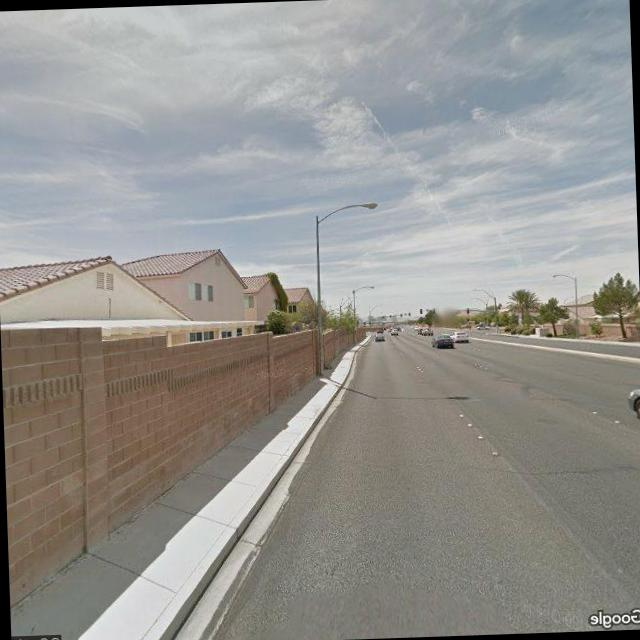crack: (416, 446, 640, 482)
